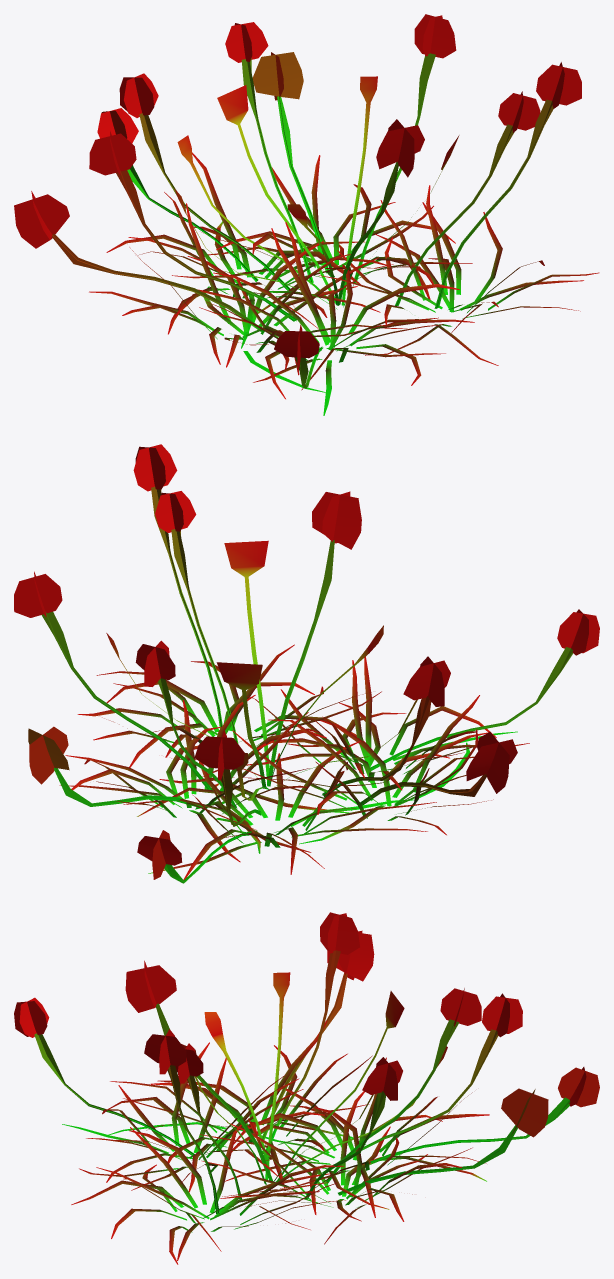
Rendered from Var4_LOD2.fbx.
The picture shows the model from 3 angles, top to bottom: view 1: azimuth 30°, elevation 25°; view 2: azimuth 150°, elevation 25°; view 3: azimuth 270°, elevation 25°; orthographic projection. The views are drawn at different scales.
Visible parts, largest first — view 1: _u6za_Var4_LOD2; view 2: _u6za_Var4_LOD2; view 3: _u6za_Var4_LOD2.
Boxes of the visible parts, bbox=[...] form: _u6za_Var4_LOD2: bbox=[14, 14, 599, 415]; _u6za_Var4_LOD2: bbox=[14, 444, 599, 883]; _u6za_Var4_LOD2: bbox=[14, 912, 599, 1264].
Size of the model in its own units: 30.99 by 14.82 by 34.08.
